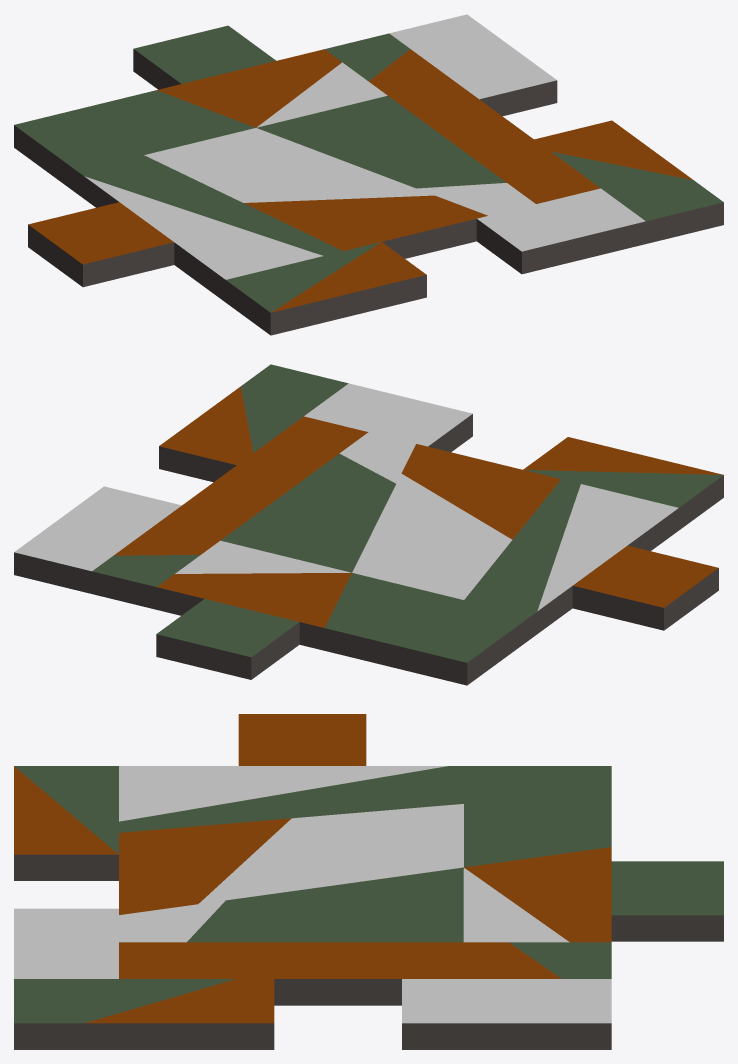
File: PuzzlePart.fbx
The picture shows the model from 3 angles, top to bottom: view 1: azimuth 30°, elevation 25°; view 2: azimuth 150°, elevation 25°; view 3: azimuth 270°, elevation 25°; orthographic projection. The views are drawn at different scales.
Visible parts, largest first — view 1: Cube.001; view 2: Cube.001; view 3: Cube.001.
Part boxes in pixels (x1,y1,x2,y2): Cube.001: (14, 14, 723, 335); Cube.001: (14, 364, 723, 685); Cube.001: (14, 714, 723, 1049).
Bounding box in the file's own units: 53.09 × 2.12 × 51.51.
